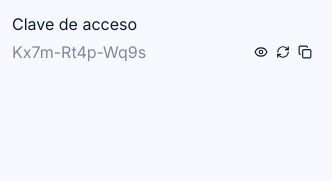
CampoClave › avisa cuando lo escrito no cumple, y calla cuando sí
Step 1. Type "corta" into the password field labelled "Clave de acceso" → [129, 52], box [12, 40, 246, 64]
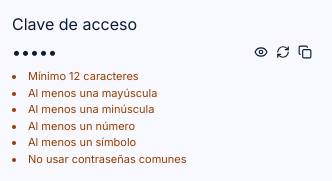
Result: the list item "Mínimo 12 caracteres" is shown at [28, 69, 139, 83]
Step 2. Type "Kx7m-Rt4p-Wq9s" into the password field labelled "Clave de acceso" → [129, 52], box [12, 40, 246, 64]
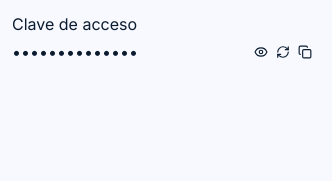
Result: the list item "Mínimo 12 caracteres" is gone
